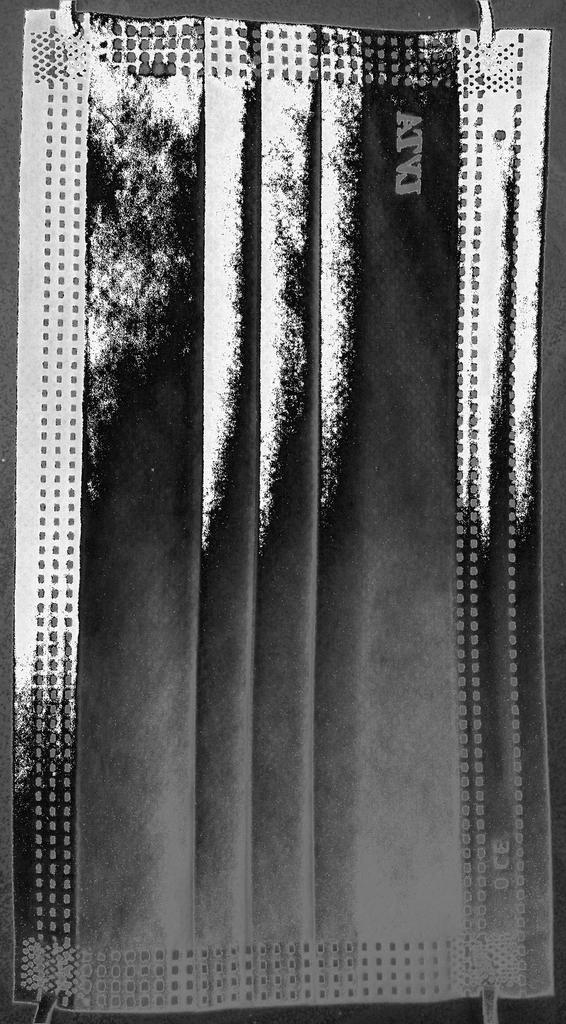High GSM: (6, 10, 566, 570)
